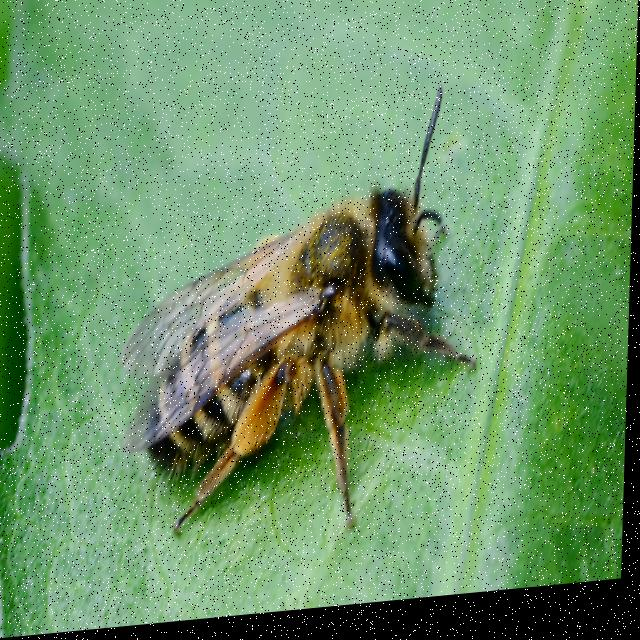Apis-mellifera-scutellata: (98, 65, 496, 581)
